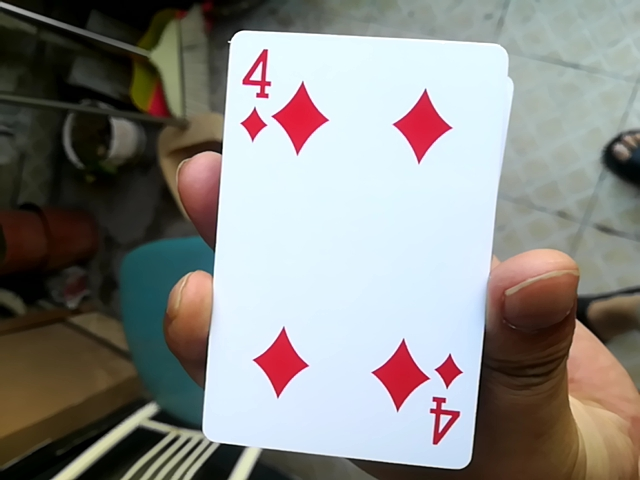fk 4: (198, 41, 483, 458)
